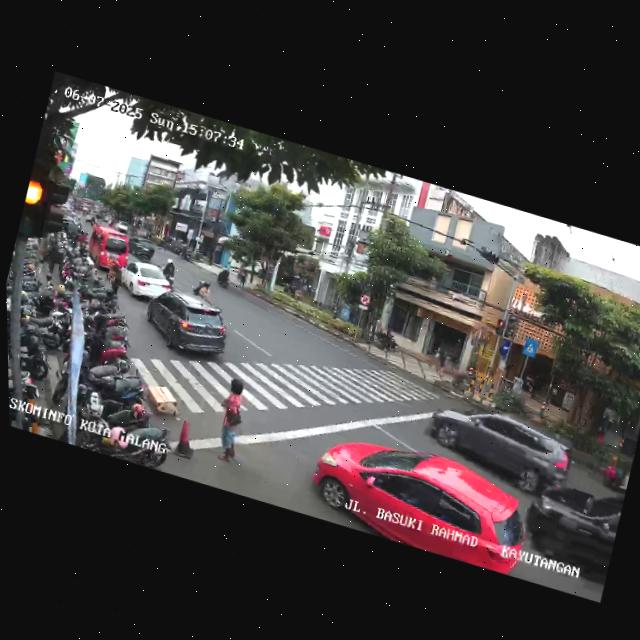car: (303, 420, 539, 578), (420, 391, 580, 503), (516, 469, 626, 586), (139, 283, 237, 368), (113, 255, 174, 308), (82, 221, 132, 276), (127, 234, 157, 263)
motorcycle: (595, 432, 638, 497), (187, 276, 214, 307), (158, 257, 181, 291), (214, 263, 234, 291)
person: (207, 377, 256, 468)
